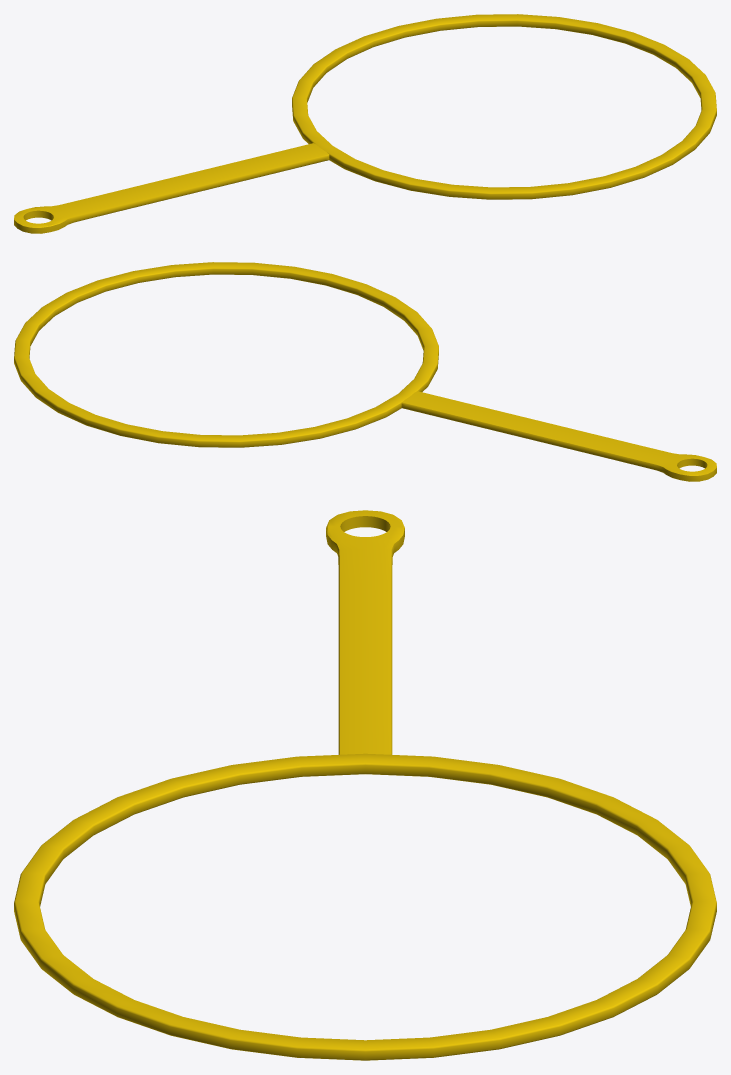
The model's file is poi_frame.fbx.
The picture shows the model from 3 angles, top to bottom: view 1: azimuth 30°, elevation 25°; view 2: azimuth 150°, elevation 25°; view 3: azimuth 270°, elevation 25°; orthographic projection. The views are drawn at different scales.
Parts seen in each view (by area): view 1: frame, grip; view 2: frame, grip; view 3: frame, grip.
Boxes of the visible parts, x1,y1,x2,y2 form: frame: [292, 14, 716, 199]; grip: [14, 143, 329, 233]; frame: [14, 262, 438, 447]; grip: [401, 391, 716, 481]; frame: [14, 753, 716, 1060]; grip: [326, 510, 404, 754].
Bounding box in the file's own units: 8.4 × 15.29 × 0.15.
